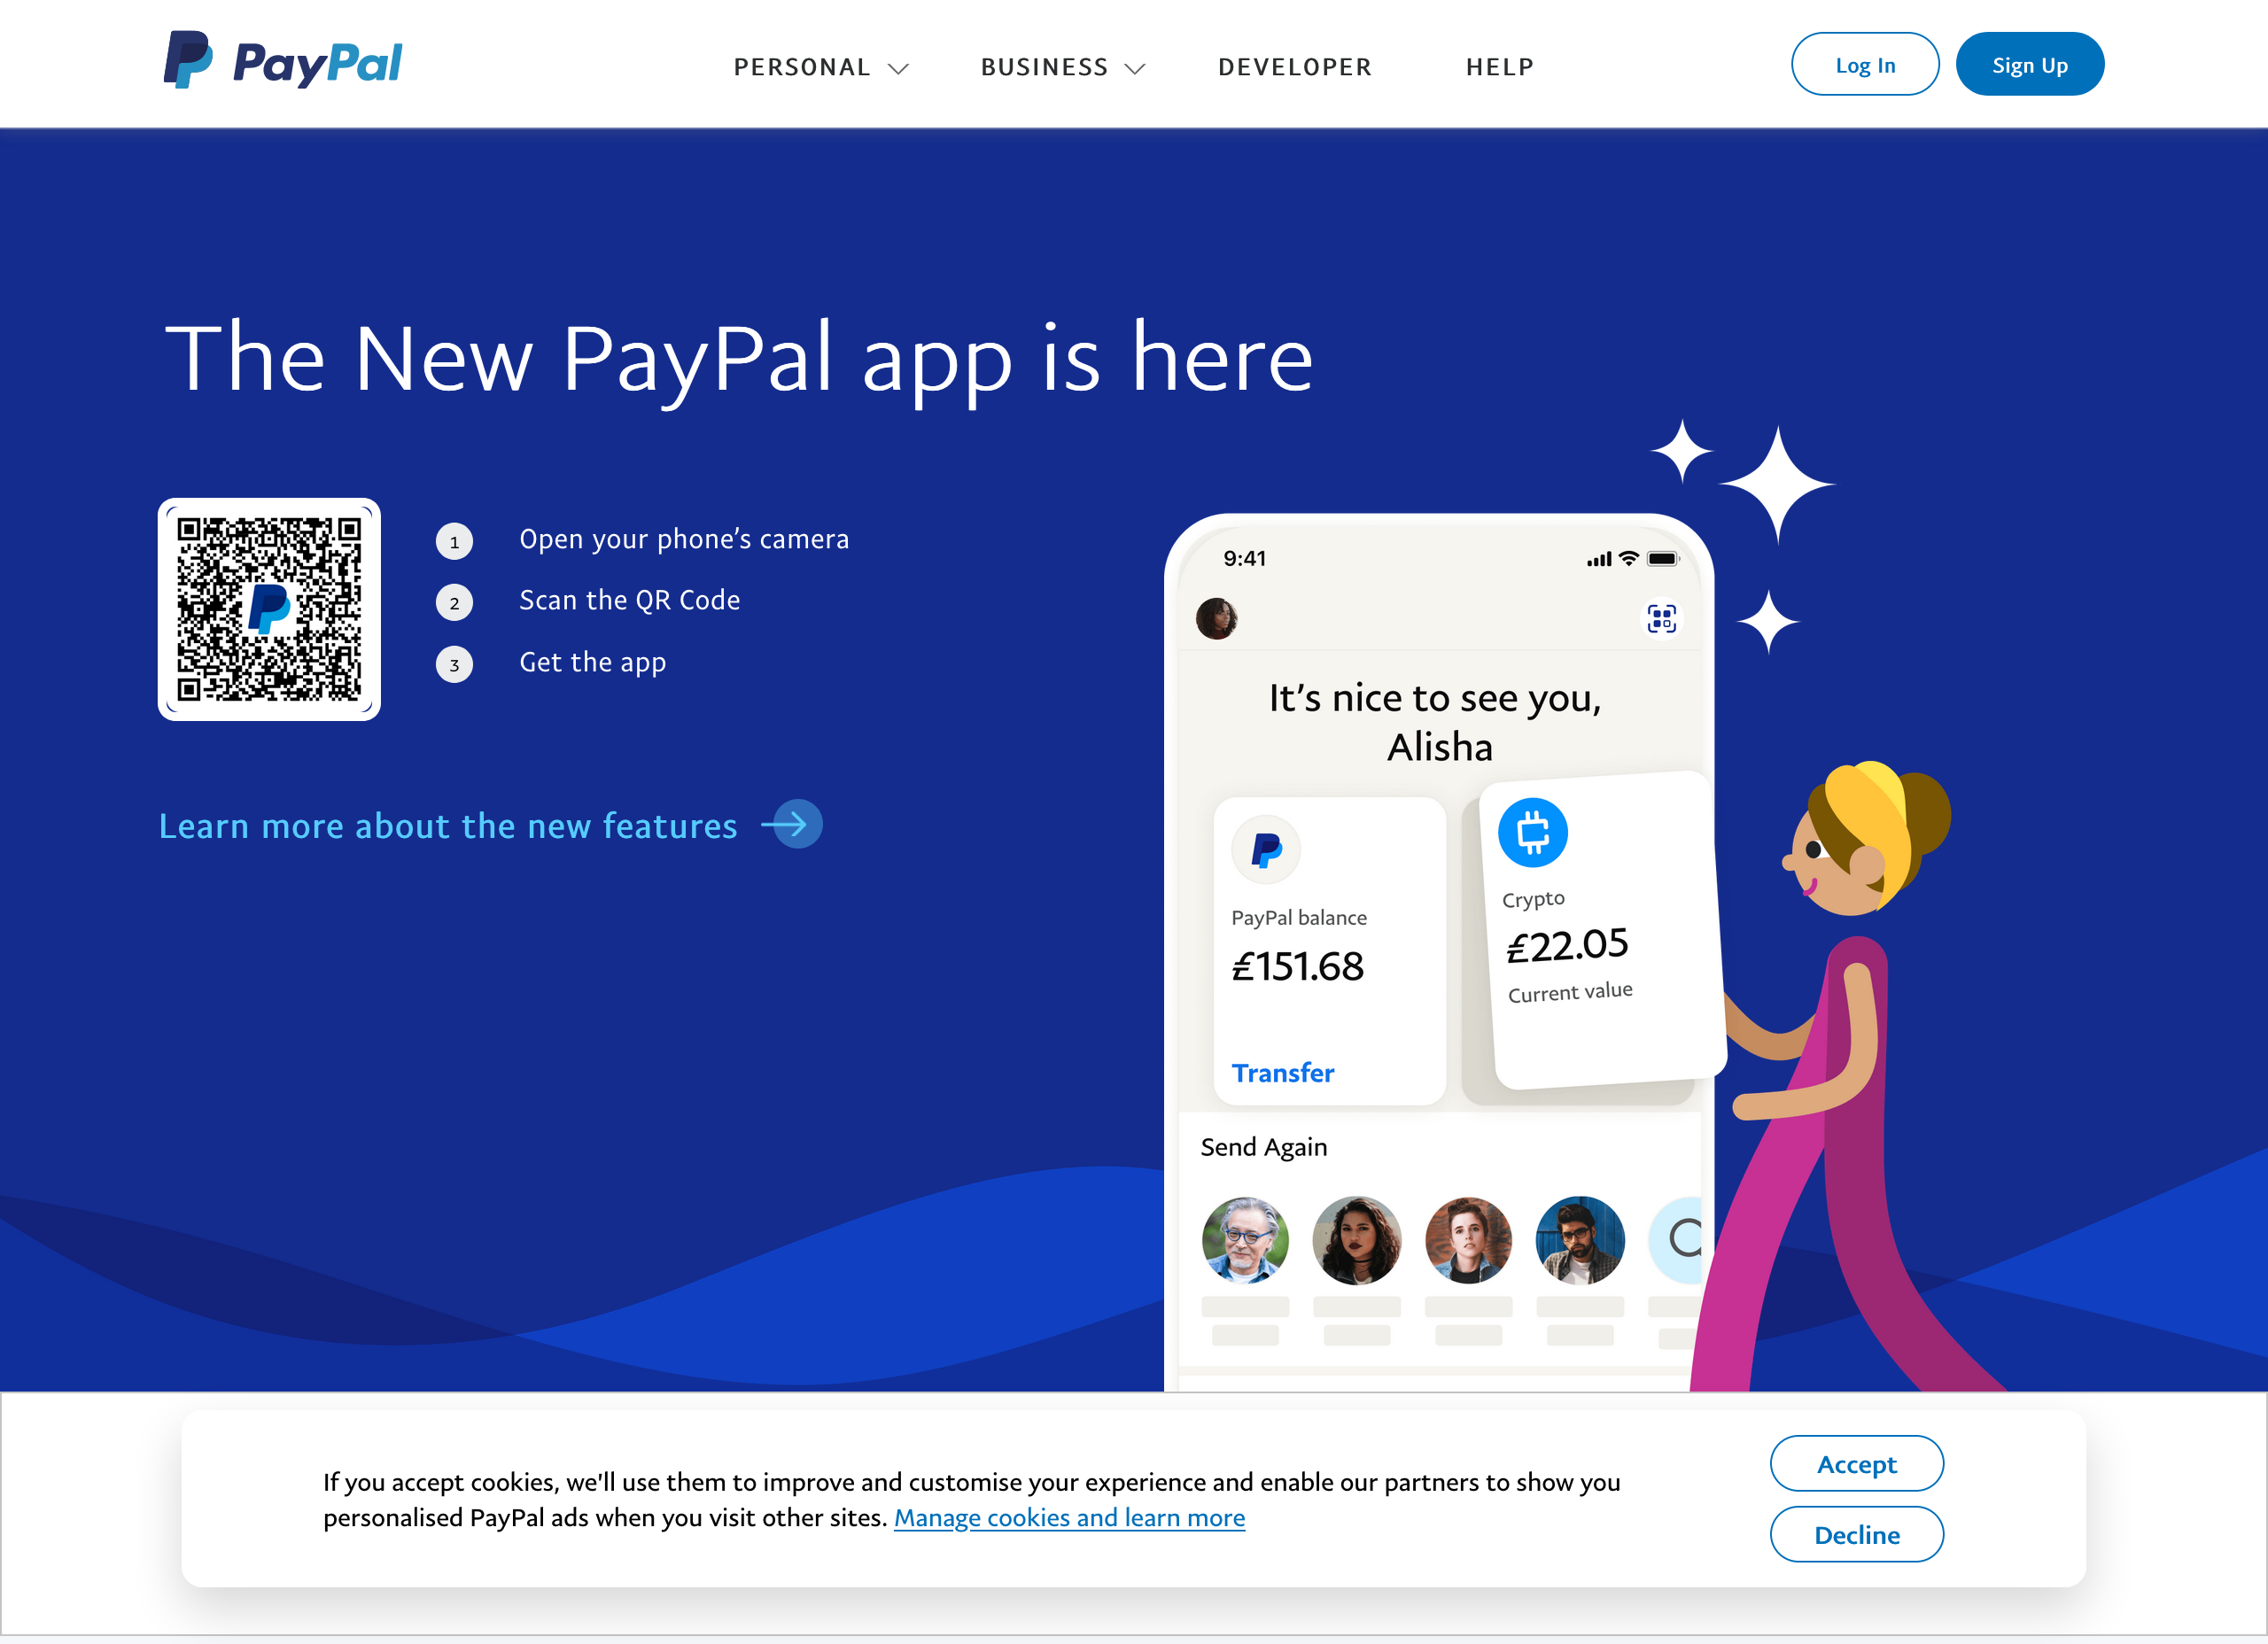Login: (1787, 19, 1944, 100)
